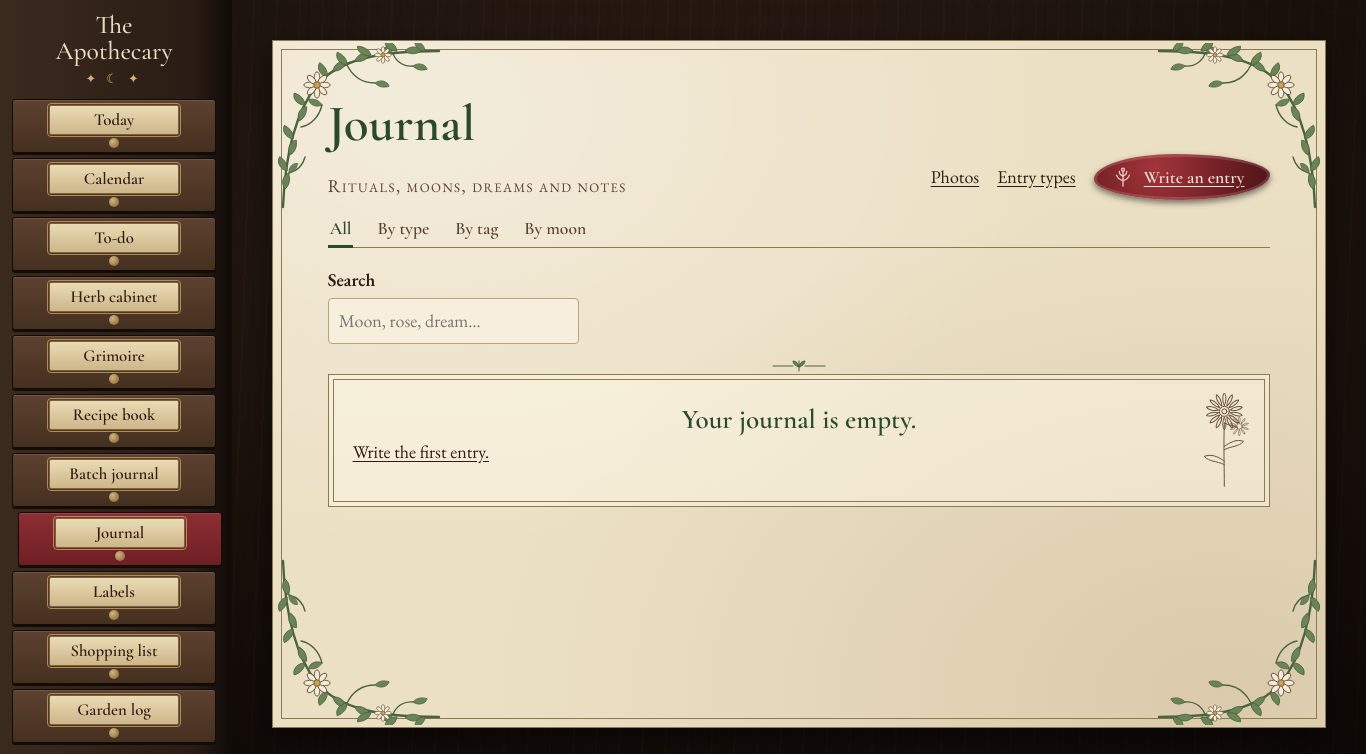
it: keeps the view in the URL and groups by type
Expected: the heading "Journal" is shown, [328, 93, 475, 155]
Click the link "By type" at (403, 229), box [378, 218, 429, 239]
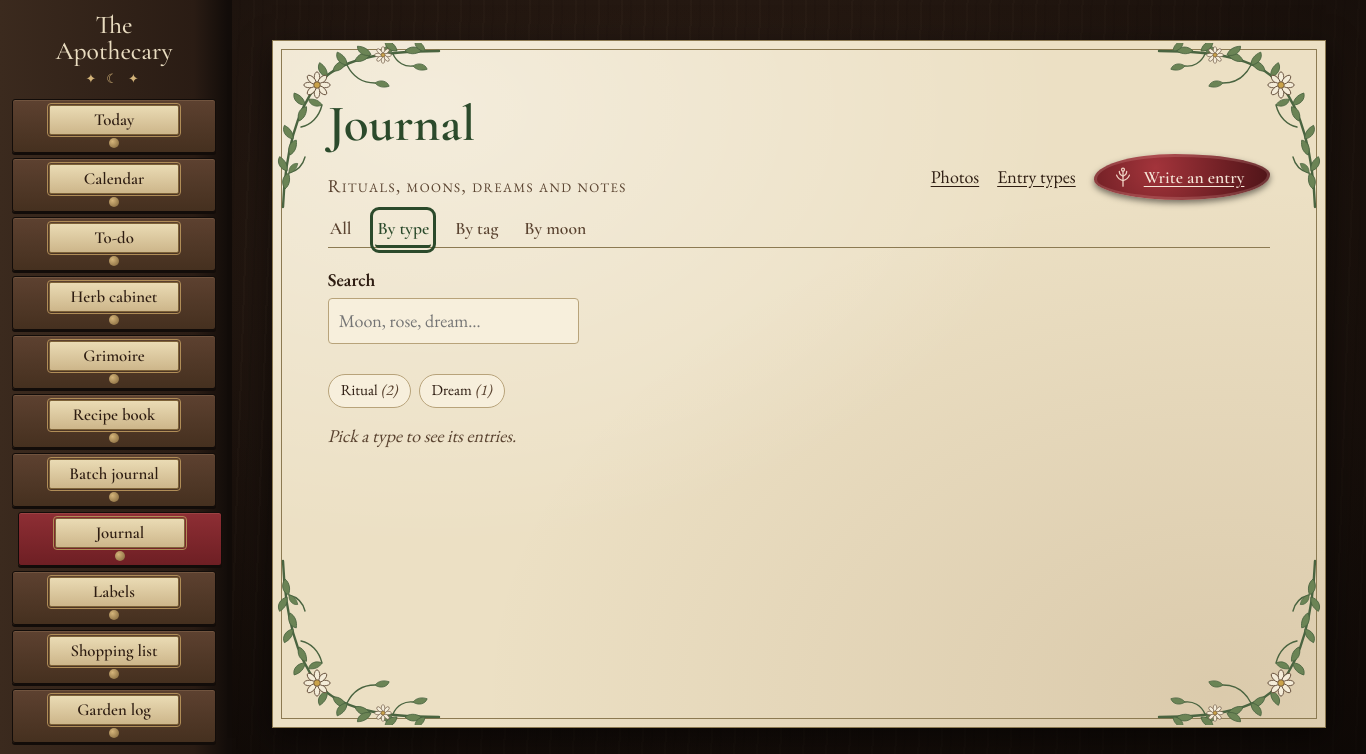
Now the button "Ritual (2)" is shown, box [328, 374, 411, 408]
Now the text "Pick a type to see its entries." is shown, box [328, 424, 516, 447]
Click the button "Dream (1)" at (462, 391), box [419, 374, 505, 408]
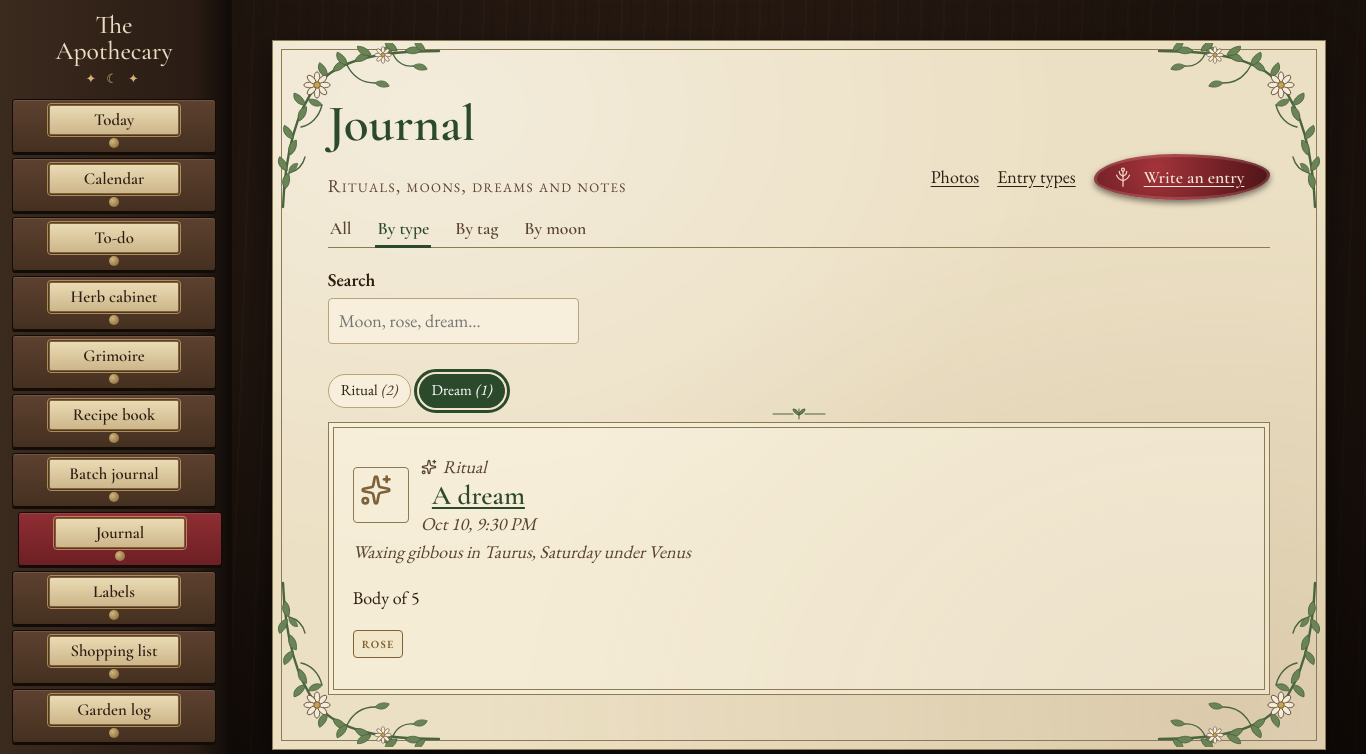
Now the link "A dream" is shown, box [432, 478, 525, 512]
